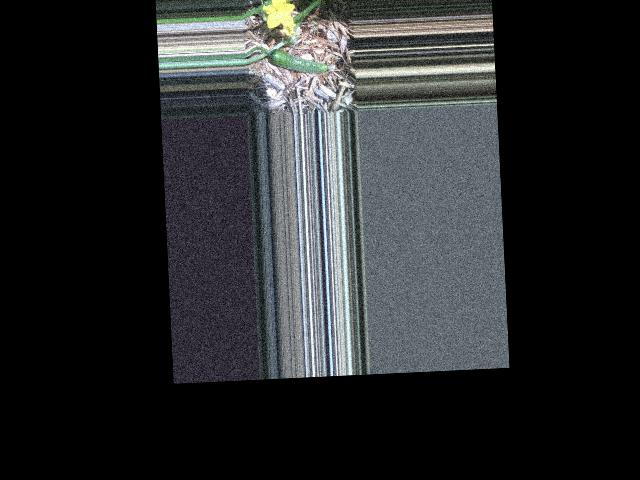cucumber: (268, 45, 334, 76)
